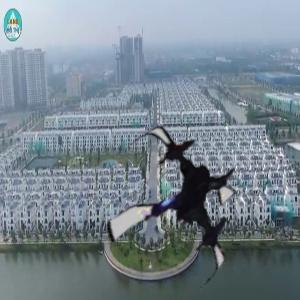drone: (91, 126, 259, 294)
